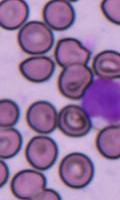M: (80, 78, 120, 124)
